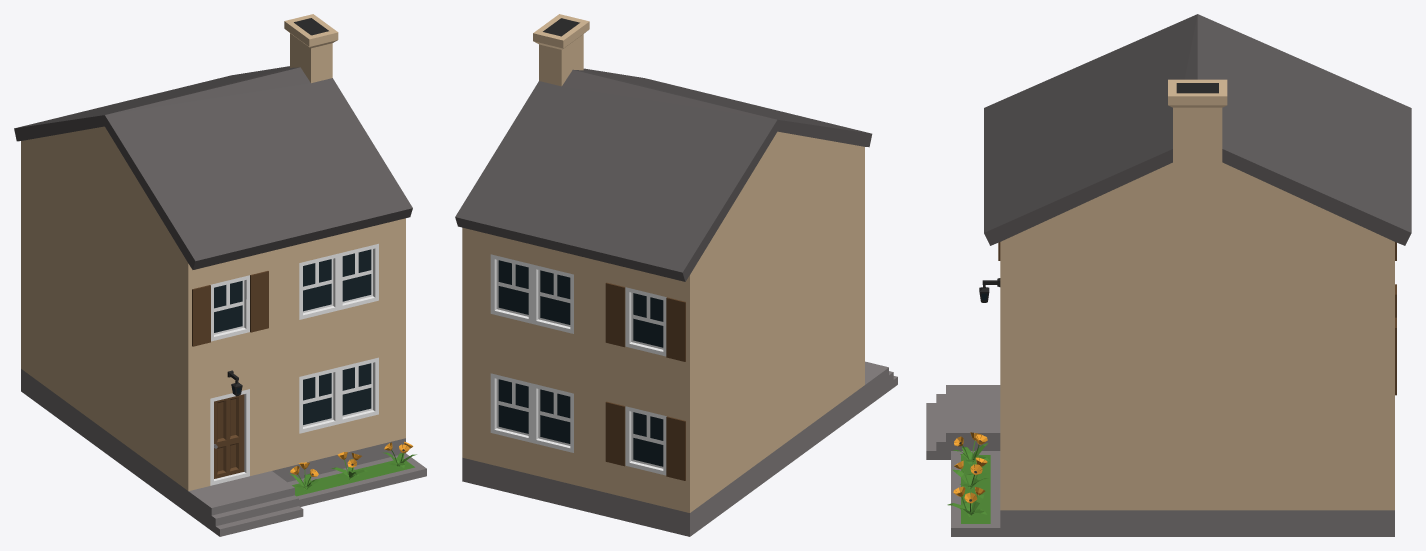
The model's file is house1.7eb6f989.glb.
The picture shows the model from 3 angles, left to right: view 1: azimuth 30°, elevation 25°; view 2: azimuth 150°, elevation 25°; view 3: azimuth 270°, elevation 25°; orthographic projection. The views are drawn at different scales.
Parts seen in each view (by area): view 1: building-house-block; view 2: building-house-block; view 3: building-house-block.
Boxes of the visible parts, box(x1,y1,x2,y2) form: building-house-block: box(14, 14, 426, 536); building-house-block: box(455, 14, 897, 536); building-house-block: box(926, 14, 1411, 536).
Bounding box in the file's own units: 6.1 × 9.9 × 9.84.
